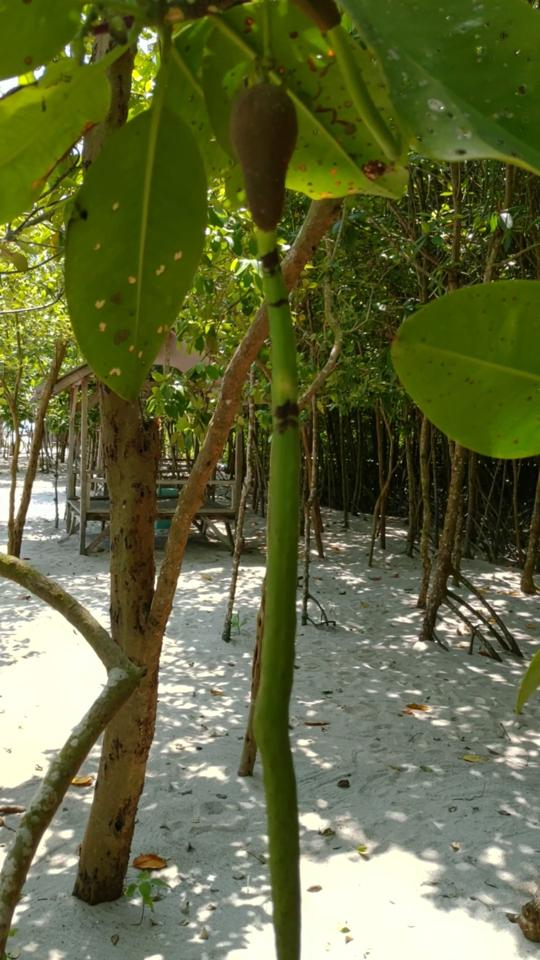mentah: (213, 77, 341, 959)
